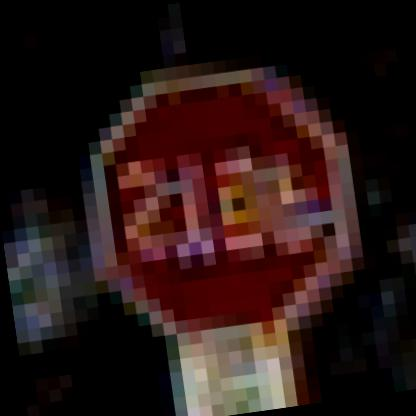stop: (51, 54, 376, 350)
